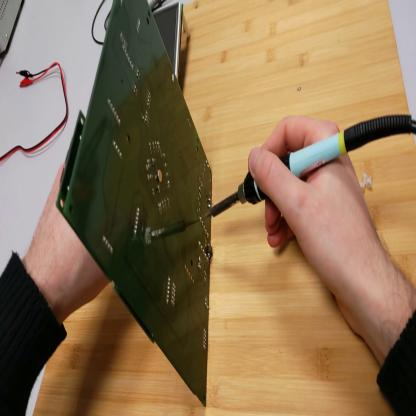hand: (254, 119, 382, 329)
low voltage board: (56, 2, 213, 407)
power supply: (2, 2, 23, 58)
welder probe tip: (201, 112, 413, 216)
working area: (34, 2, 416, 415)
